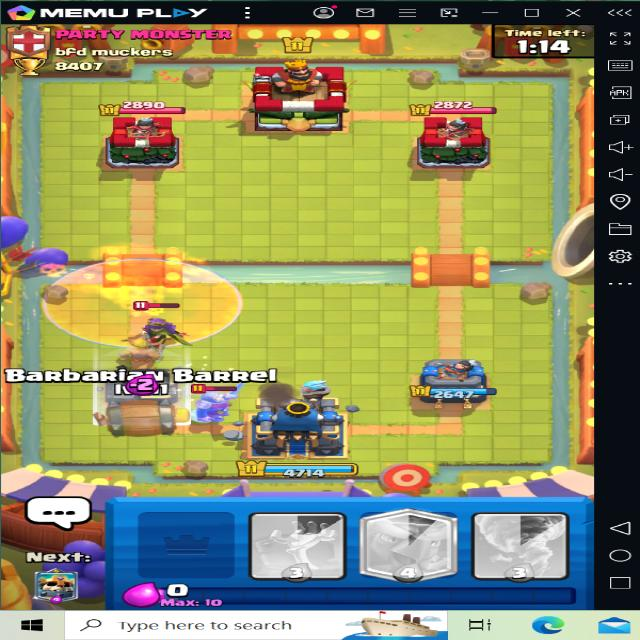Knight: (182, 381, 256, 428)
Queen: (127, 300, 188, 350)
